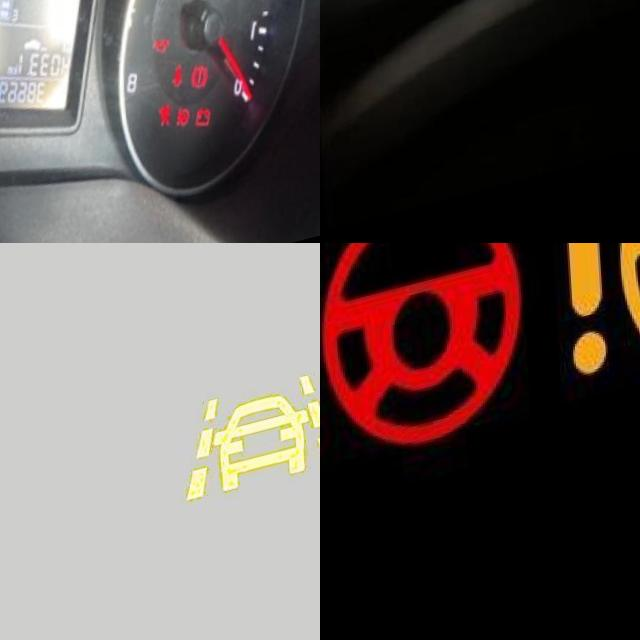Electronic Power Steering: (320, 243, 521, 480), (167, 126, 187, 157)
